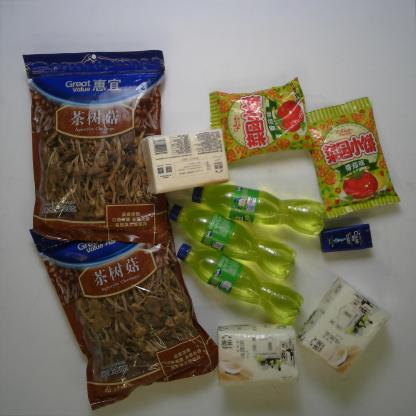Dried Food: (25, 214, 222, 412), (16, 44, 177, 248)
Drink: (173, 237, 306, 327), (167, 201, 296, 282), (189, 180, 330, 239)
Personal Hygiene: (315, 216, 376, 258)
Puffed Food: (302, 92, 405, 223), (206, 77, 321, 166)
Tissue: (298, 273, 398, 379), (138, 124, 234, 198), (212, 318, 302, 390)
